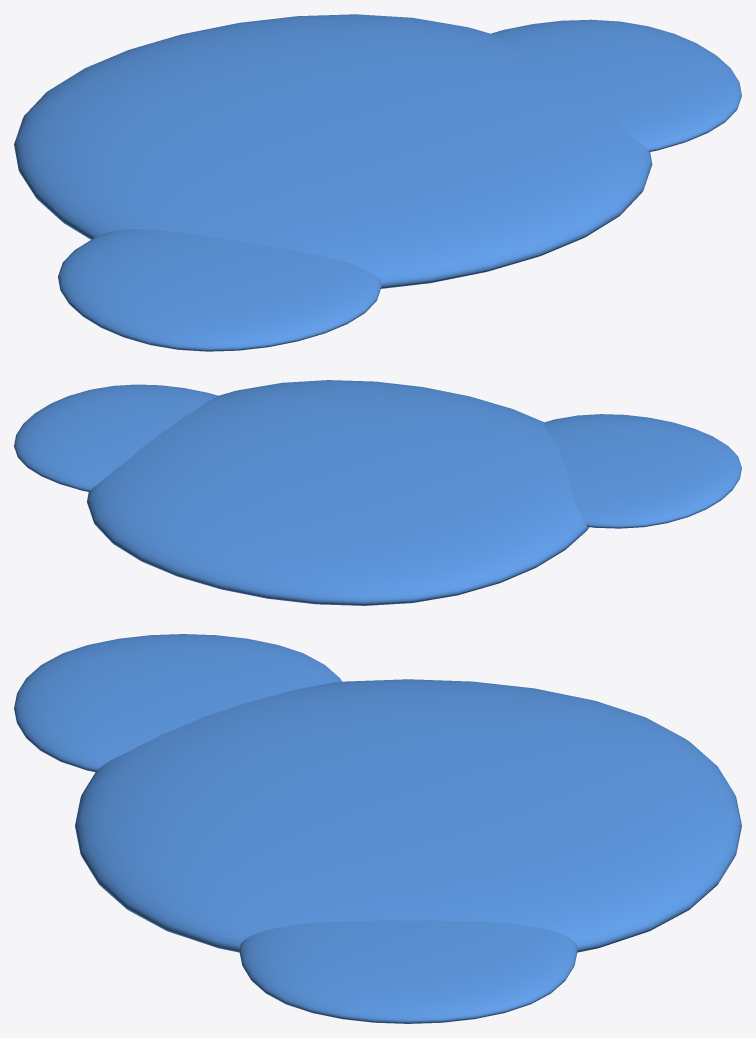
The model's file is puddle.fbx.
3 views of the same model, one above another, from view 1: azimuth 30°, elevation 25°; view 2: azimuth 150°, elevation 25°; view 3: azimuth 270°, elevation 25° (orthographic). The views are drawn at different scales.
Visible parts, largest first — view 1: Cube, Cube.002, Cube.001; view 2: Cube, Cube.002, Cube.001; view 3: Cube, Cube.001, Cube.002.
Boxes of the visible parts, x1=… form: Cube: x1=14, y1=14, x2=652, y2=288; Cube.002: x1=58, y1=229, x2=381, y2=351; Cube.001: x1=491, y1=19, x2=741, y2=151; Cube: x1=87, y1=380, x2=588, y2=605; Cube.002: x1=544, y1=414, x2=741, y2=528; Cube.001: x1=14, y1=384, x2=217, y2=491; Cube: x1=75, y1=679, x2=741, y2=952; Cube.001: x1=239, y1=920, x2=577, y2=1023; Cube.002: x1=14, y1=634, x2=341, y2=772.
Size of the model in its own units: 318 by 20.32 by 253.
